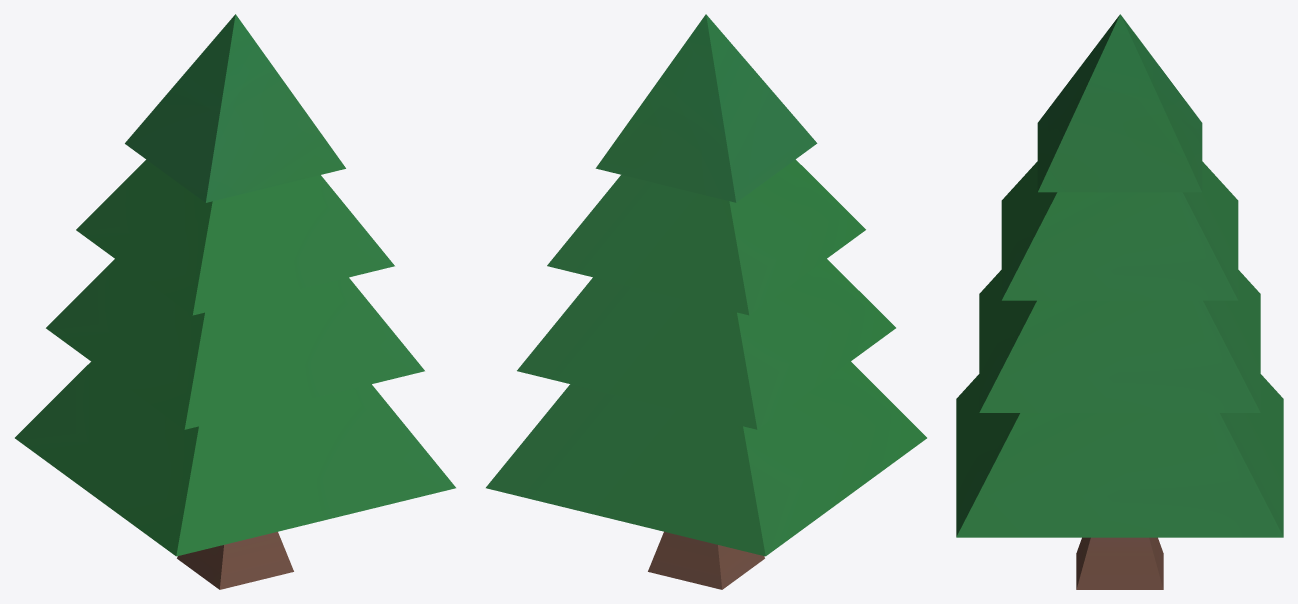
File: TreePine.fbx
3 renders of one model, left to right at view 1: azimuth 30°, elevation 25°; view 2: azimuth 150°, elevation 25°; view 3: azimuth 270°, elevation 25°, orthographic.
Parts seen in each view (by area): view 1: PineTree; view 2: PineTree; view 3: PineTree.
Part boxes in pixels (left/top/right/bottom): PineTree: left=15, top=14, right=455, bottom=589; PineTree: left=486, top=14, right=926, bottom=589; PineTree: left=956, top=14, right=1283, bottom=589.
Bounding box in the file's own units: 258 × 485 × 258.
